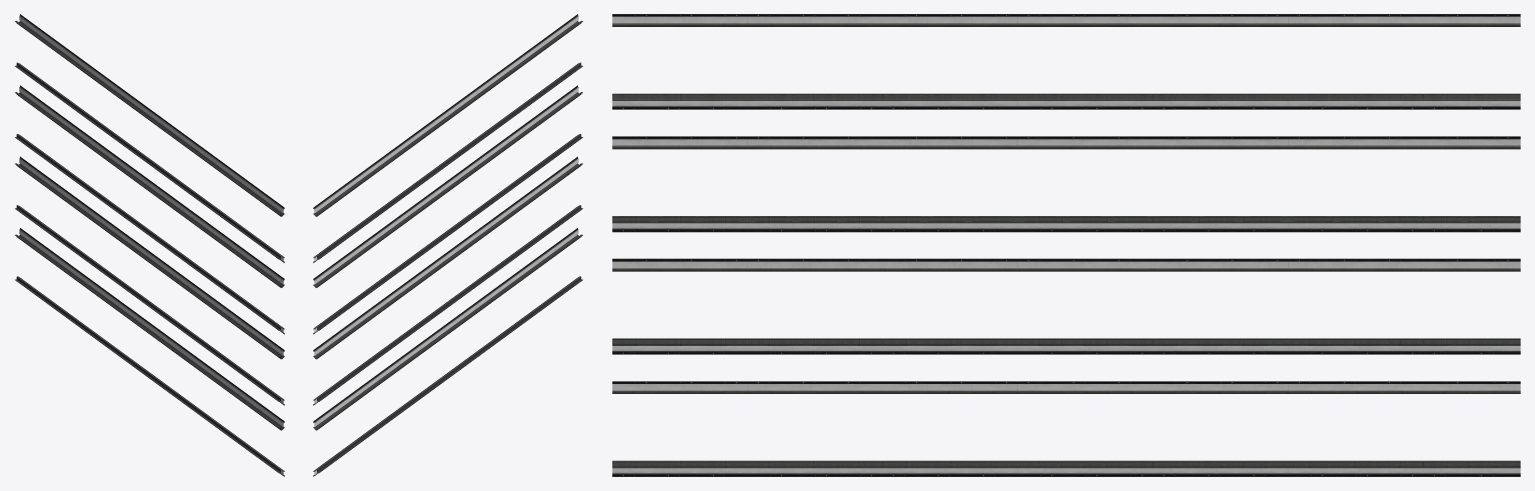
The model's file is RearlFAC_Win05.FBX.
3 renders of one model, left to right at view 1: azimuth 30°, elevation 25°; view 2: azimuth 150°, elevation 25°; view 3: azimuth 270°, elevation 25°, orthographic. The views are drawn at different scales.
Parts seen in each view (by area): view 1: RearlFAC_Win05; view 2: RearlFAC_Win05; view 3: RearlFAC_Win05.
Part boxes in pixels (x1=…): RearlFAC_Win05: x1=15, y1=14, x2=284, y2=476; RearlFAC_Win05: x1=313, y1=14, x2=582, y2=476; RearlFAC_Win05: x1=612, y1=14, x2=1520, y2=476.
Size of the model in its own units: 0.5008 by 22.7 by 40.36.
